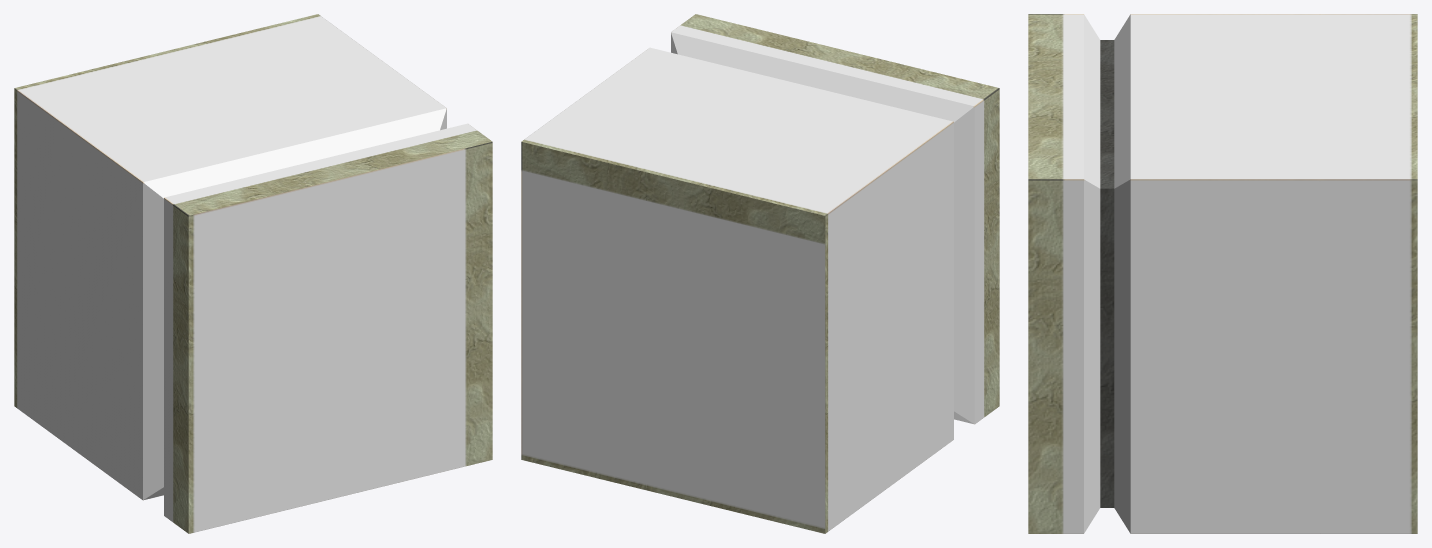
The picture shows the model from 3 angles, left to right: view 1: azimuth 30°, elevation 25°; view 2: azimuth 150°, elevation 25°; view 3: azimuth 270°, elevation 25°; orthographic projection. The views are drawn at different scales.
Parts seen in each view (by area): view 1: Cube_Cube_None_QuartoPieces.png; view 2: Cube_Cube_None_QuartoPieces.png; view 3: Cube_Cube_None_QuartoPieces.png.
Boxes of the visible parts, x1,y1,x2,y2 form: Cube_Cube_None_QuartoPieces.png: (14,14,492,533); Cube_Cube_None_QuartoPieces.png: (521,14,999,533); Cube_Cube_None_QuartoPieces.png: (1028,14,1417,533).
Size of the model in its own units: 2 by 2 by 1.99.
